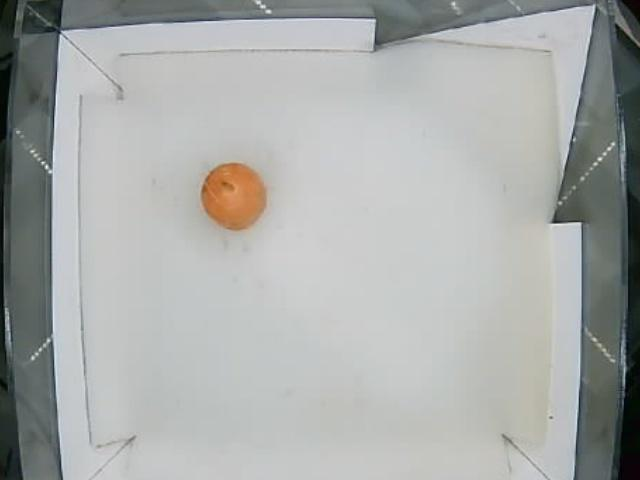Carrot: (200, 160, 267, 229)
